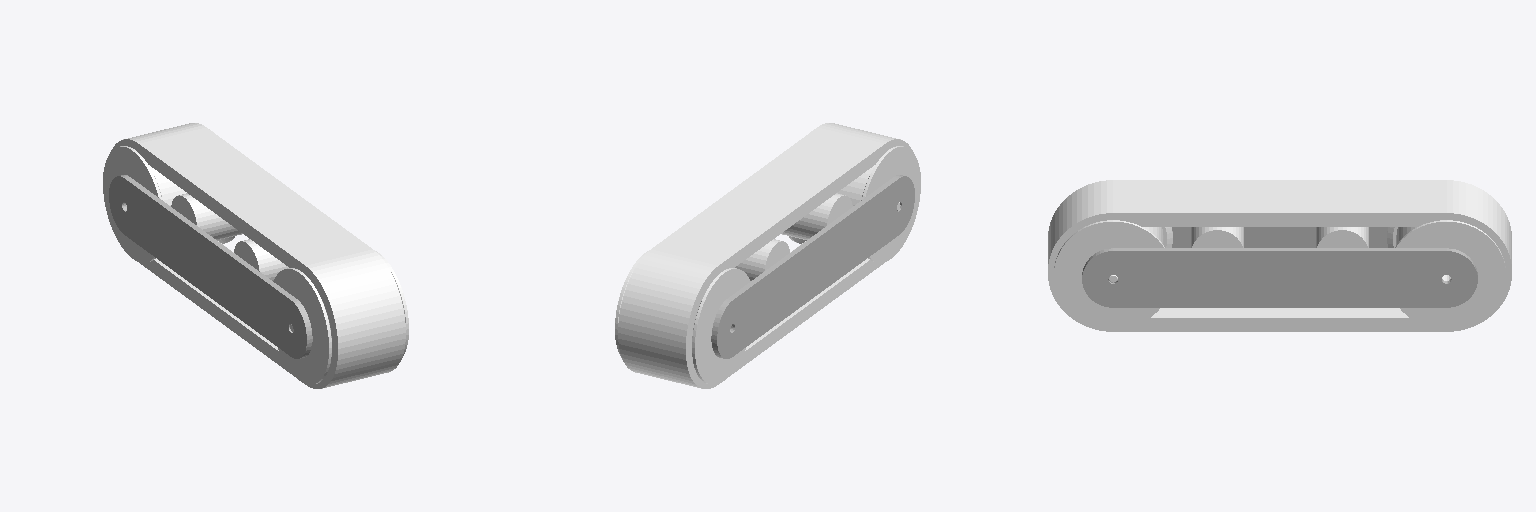
File: brazo_izq_trasero_v2.obj
The picture shows the model from 3 angles: view 1: azimuth 30°, elevation 25°; view 2: azimuth 150°, elevation 25°; view 3: azimuth 270°, elevation 25°; orthographic projection.
Parts seen in each view (by area): view 1: Object.1; view 2: Object.1; view 3: Object.1.
Part boxes in pixels (left/top/right/bottom): Object.1: left=103, top=123, right=408, bottom=388; Object.1: left=615, top=123, right=920, bottom=388; Object.1: left=1048, top=180, right=1511, bottom=331.
Bounding box in the file's own units: 107 × 126 × 446.